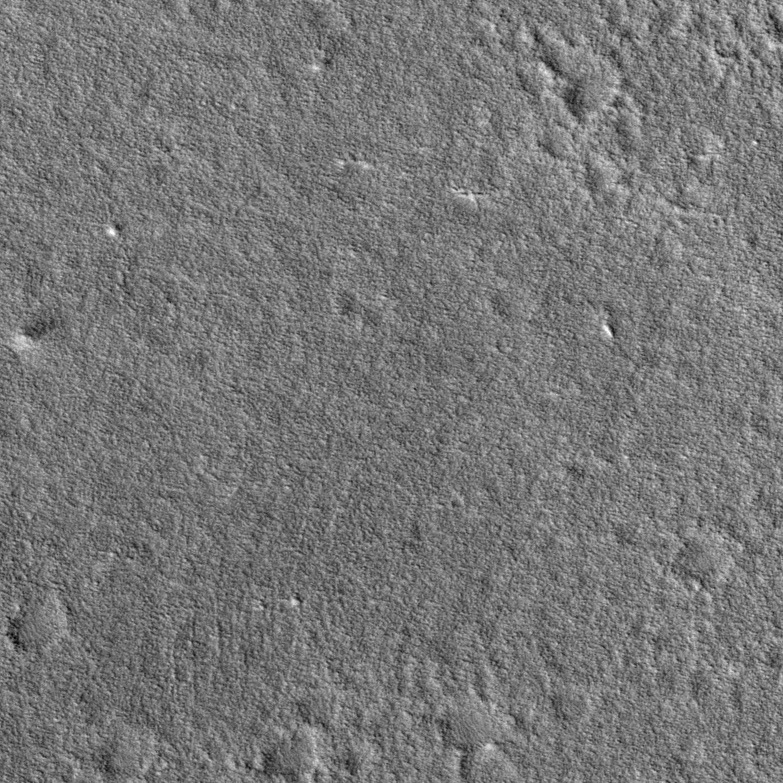dust_devil: (7, 314, 67, 354)
